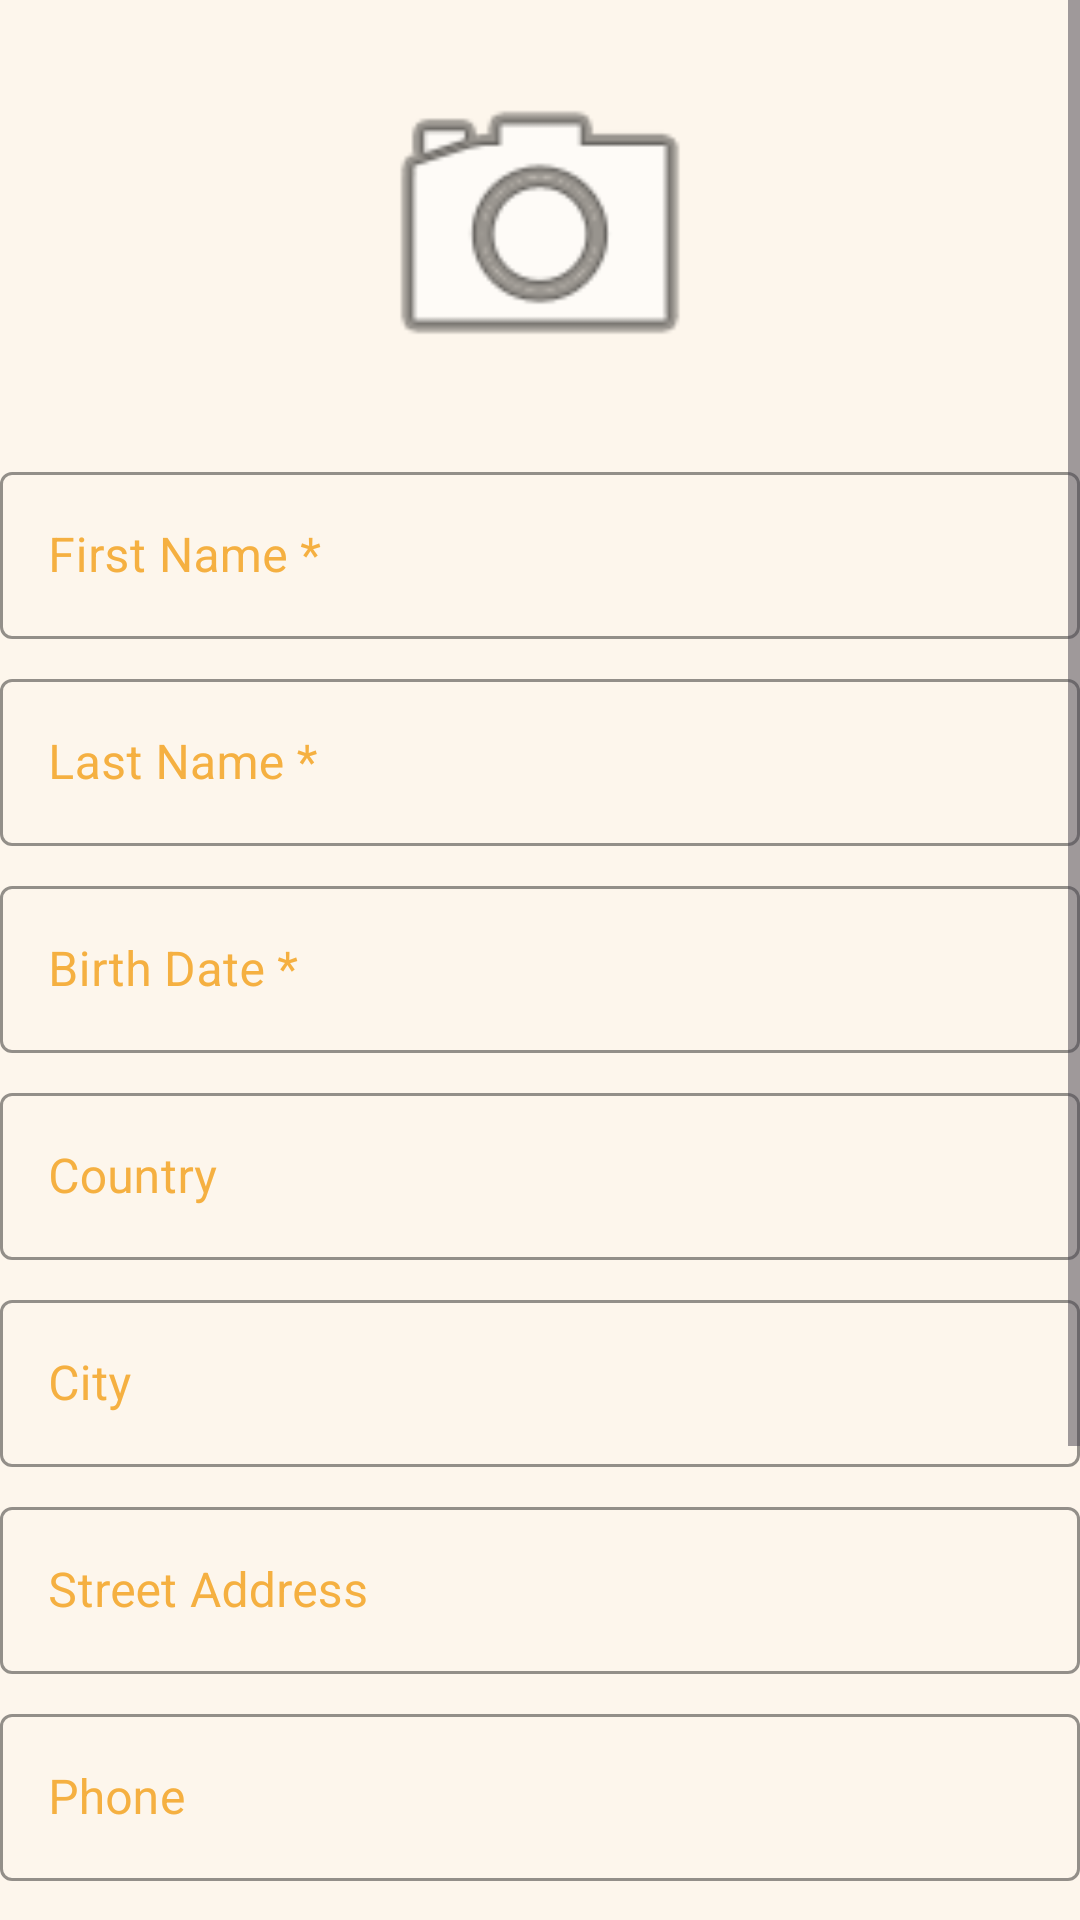

Locate icon controls on the screen. Image size 1080x1920, boxes as (x1, y1, x2, y2).
camera: (400, 110, 680, 334)
